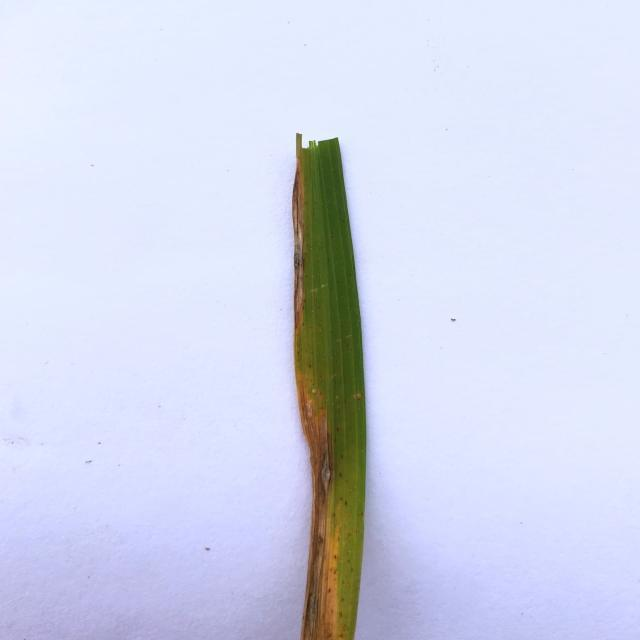Rice Tungro: (298, 343, 340, 640)
